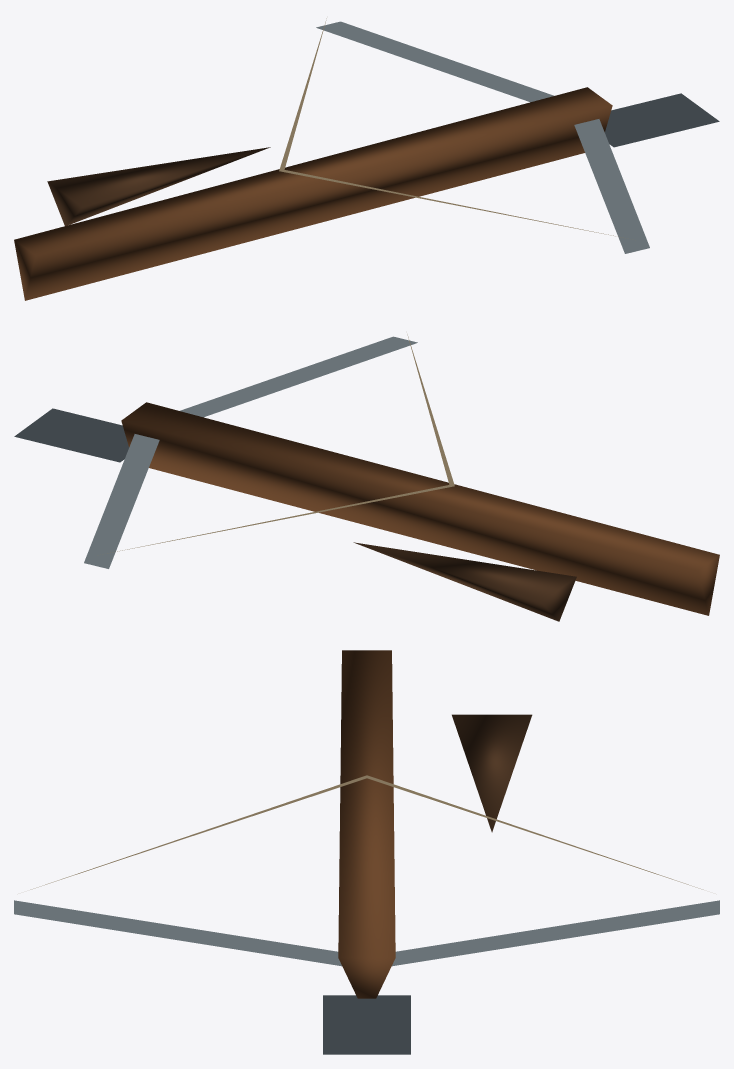
File: crossbow_mechanism_lod2.glb
The picture shows the model from 3 angles, top to bottom: view 1: azimuth 30°, elevation 25°; view 2: azimuth 150°, elevation 25°; view 3: azimuth 270°, elevation 25°; orthographic projection. The views are drawn at different scales.
Parts seen in each view (by area): view 1: Tiller, Prod, StowedBundle, Stirrup, String; view 2: Tiller, Prod, StowedBundle, Stirrup, String; view 3: Tiller, Prod, Stirrup, StowedBundle, String.
Part boxes in pixels (box(x1,y1,x2,y2)): Tiller: box(14, 87, 612, 300); Prod: box(316, 21, 649, 253); StowedBundle: box(47, 147, 270, 225); Stirrup: box(605, 93, 719, 147); String: box(279, 18, 625, 238); Tiller: box(121, 402, 719, 615); Prod: box(84, 336, 417, 568); StowedBundle: box(353, 542, 576, 621); Stirrup: box(14, 408, 128, 462); String: box(107, 334, 454, 553); Tiller: box(338, 650, 395, 998); Prod: box(14, 900, 719, 966); Stirrup: box(323, 995, 410, 1054); StowedBundle: box(452, 714, 532, 832); String: box(30, 775, 703, 889).
Bounding box in the file's own units: 1.21 × 0.116 × 0.96.
